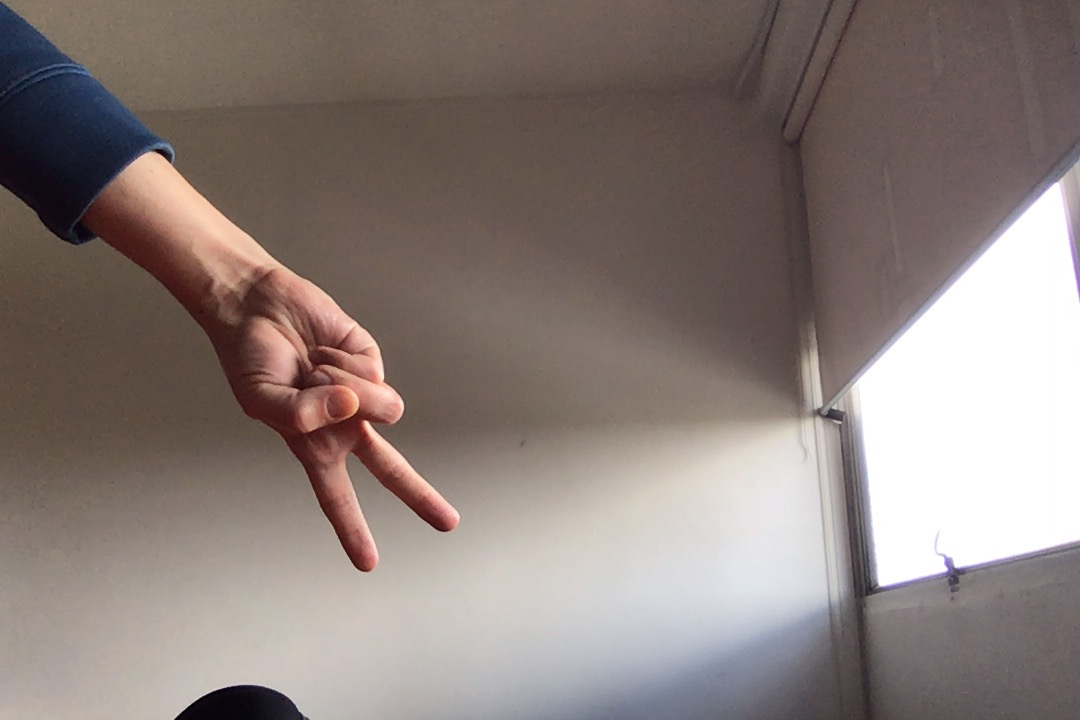peacesign: (211, 253, 467, 580)
